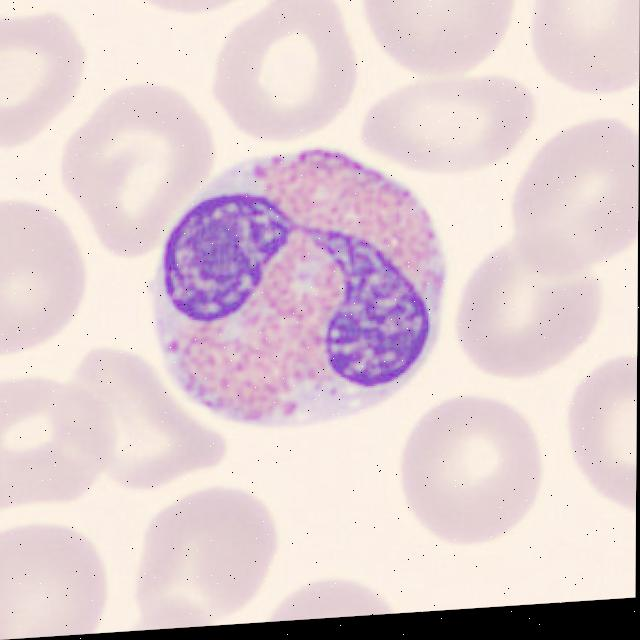eosinophil: (146, 144, 448, 438)
rbc: (55, 85, 204, 265), (54, 346, 224, 494), (403, 385, 546, 551), (209, 0, 362, 149), (506, 114, 639, 283), (128, 480, 277, 630), (354, 67, 537, 187), (459, 232, 602, 385), (0, 361, 118, 516), (0, 190, 88, 367), (353, 0, 519, 86), (0, 521, 111, 640), (0, 11, 89, 153), (561, 355, 637, 520), (524, 0, 640, 99), (251, 569, 416, 623), (124, 580, 225, 631), (111, 0, 284, 27), (0, 0, 83, 17)
